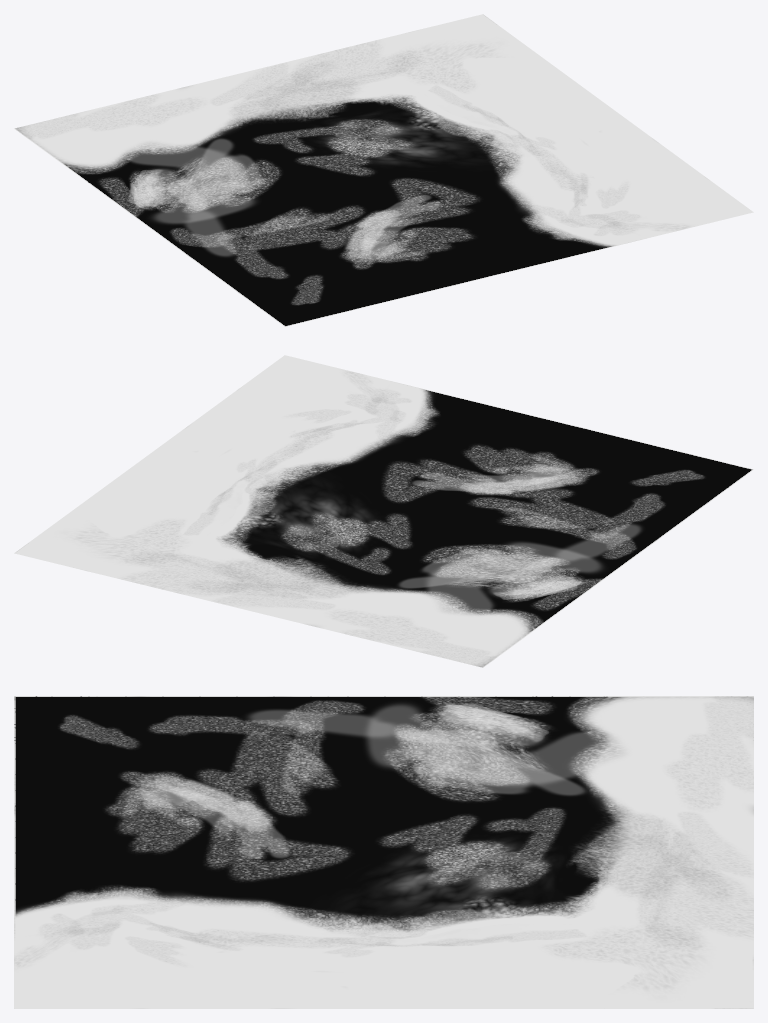
File: addon-test-scene.gltf
The picture shows the model from 3 angles, top to bottom: view 1: azimuth 30°, elevation 25°; view 2: azimuth 150°, elevation 25°; view 3: azimuth 270°, elevation 25°; orthographic projection. The views are drawn at different scales.
Visible parts, largest first — view 1: Grid; view 2: Grid; view 3: Grid.
Part boxes in pixels (<box>): Grid: <box>14,14,753,326</box>; Grid: <box>14,355,753,667</box>; Grid: <box>14,696,753,1008</box>.
Bounding box in the file's own units: 16.77 × 0 × 16.77.
Materials: 1 (1 with a texture image).
